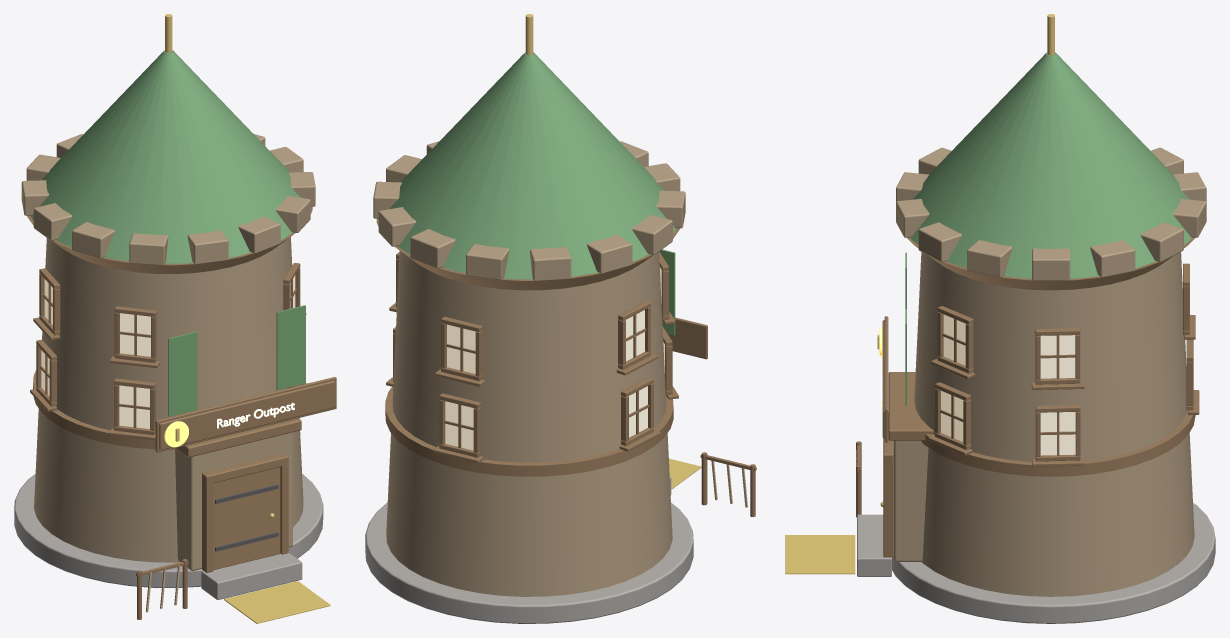
The model's file is ranger_outpost.fbx.
The picture shows the model from 3 angles, left to right: view 1: azimuth 30°, elevation 25°; view 2: azimuth 150°, elevation 25°; view 3: azimuth 270°, elevation 25°; orthographic projection. The views are drawn at different scales.
Visible parts, largest first — view 1: ranger_outpost; view 2: ranger_outpost; view 3: ranger_outpost.
Boxes of the visible parts, bbox=[...] form: ranger_outpost: bbox=[14, 14, 336, 623]; ranger_outpost: bbox=[365, 14, 756, 623]; ranger_outpost: bbox=[785, 14, 1215, 623].
Bounding box in the file's own units: 9.4 × 17.02 × 12.3.
